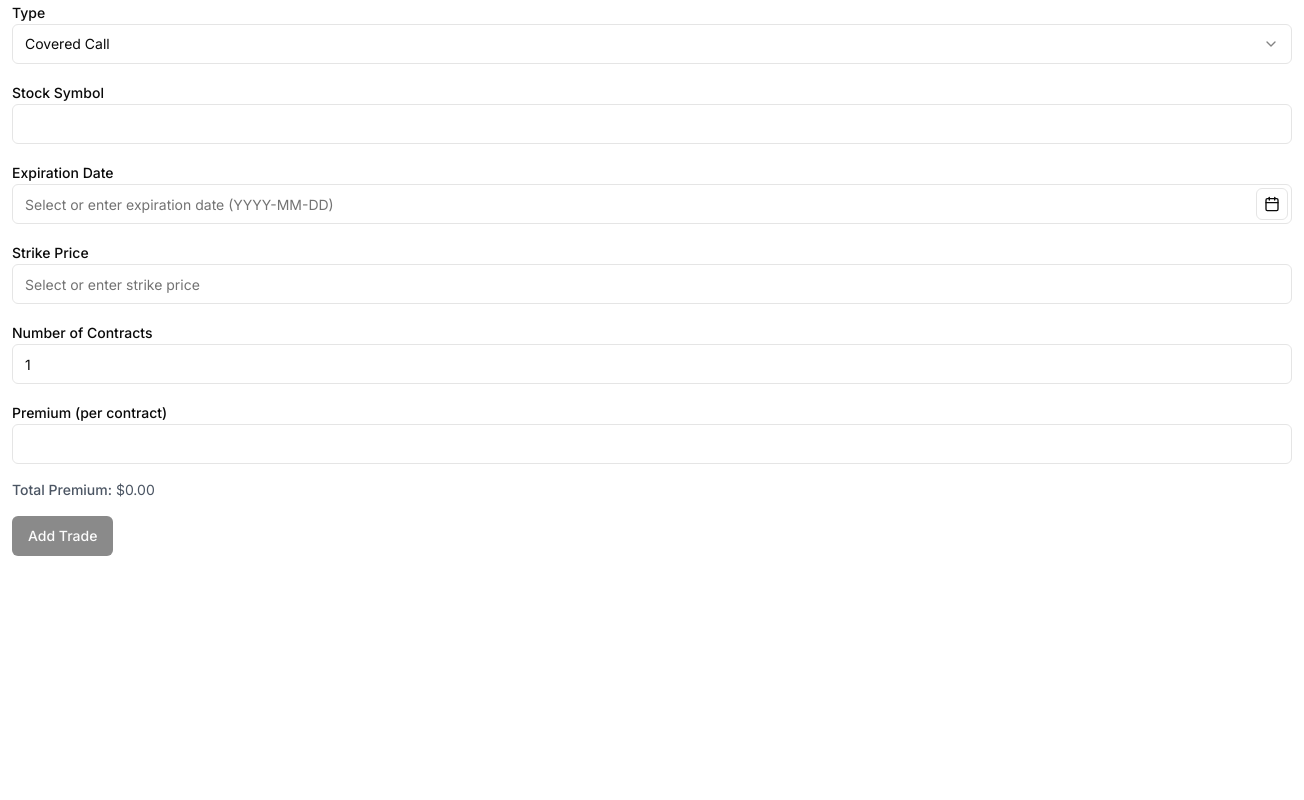
Test case: AddTradeForm › should show suggestions when typing a symbol
The width and height of the screenshot is (1304, 800).
In the field labelled "Stock Symbol": [652, 124] box top-left (12, 104), bottom-right (1292, 144), type "A"
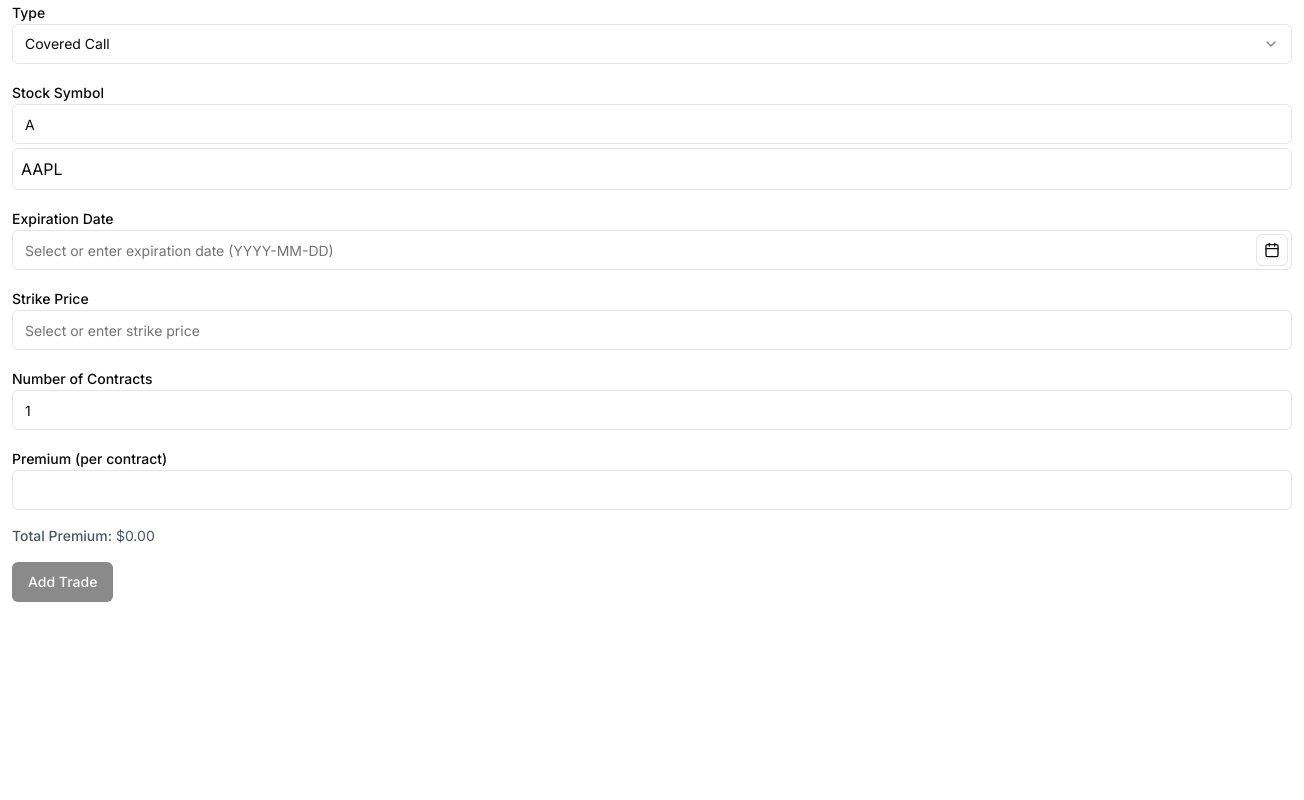
Expected: the list item "AAPL" is shown, top-left (21, 159), bottom-right (63, 179)
